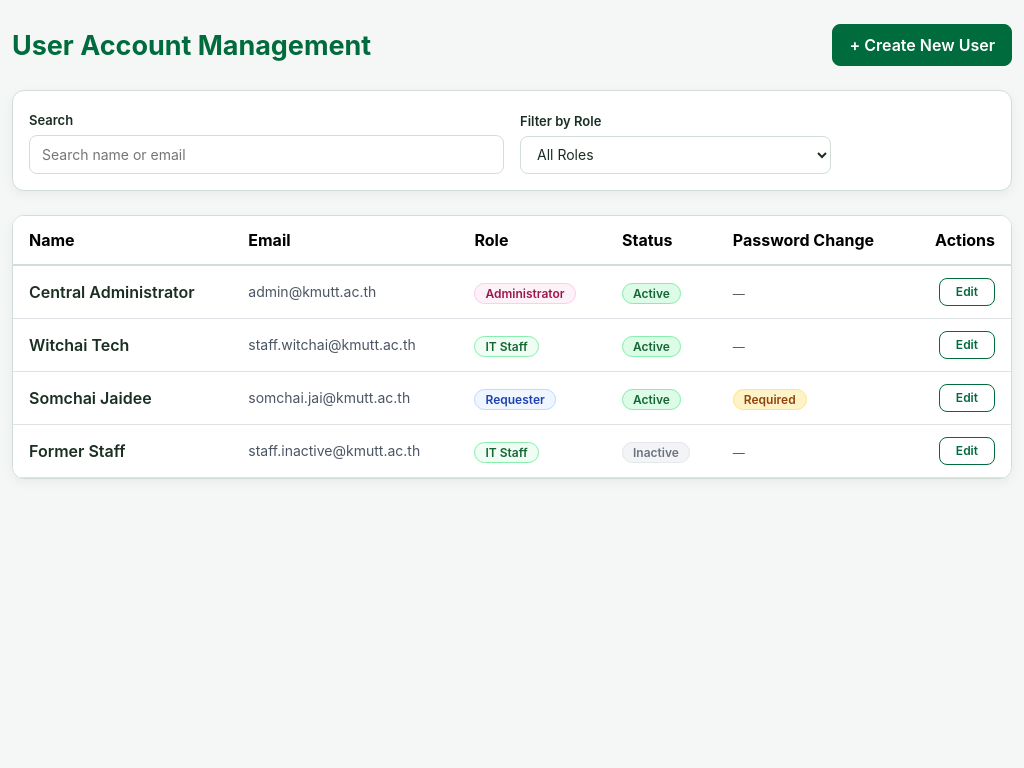
Test: Admin User Management Component UI Tests (ADMIN-UI-01, ADMIN-UI-02) › ADMIN-UI-02: Edit User Modal, Password Reset, and Deactivation Safety Checks › disables self-deactivation checkbox when editing current logged-in Administrator
Expected: the text "Central Administrator" is shown, [13,264,232,318]
Edit row for Central Administrator (id: 1)
Click the button "Edit" in the row of "Central Administrator" at x=967, y=292, box [939,278,995,306]
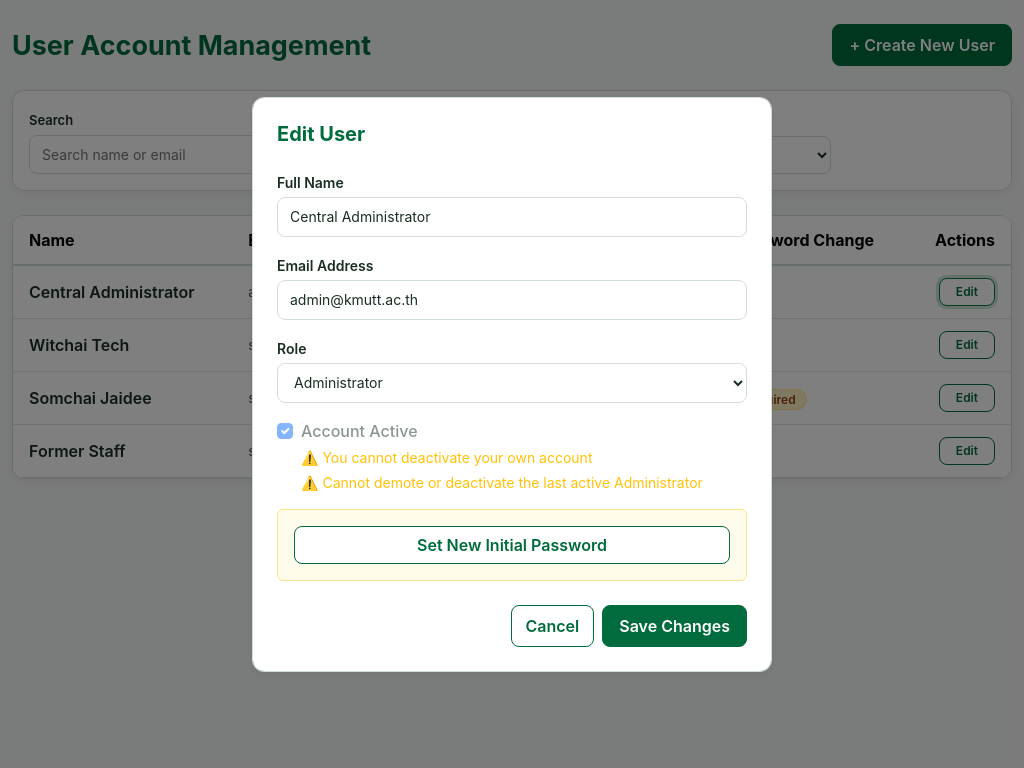
Now the heading "Edit User" is shown, box [277,122,365,146]
Now the checkbox labelled "Account Active" is disabled, box [277,422,293,438]
Now the text "⚠️ You cannot deactivate your own account" is shown, box [301,448,592,466]
